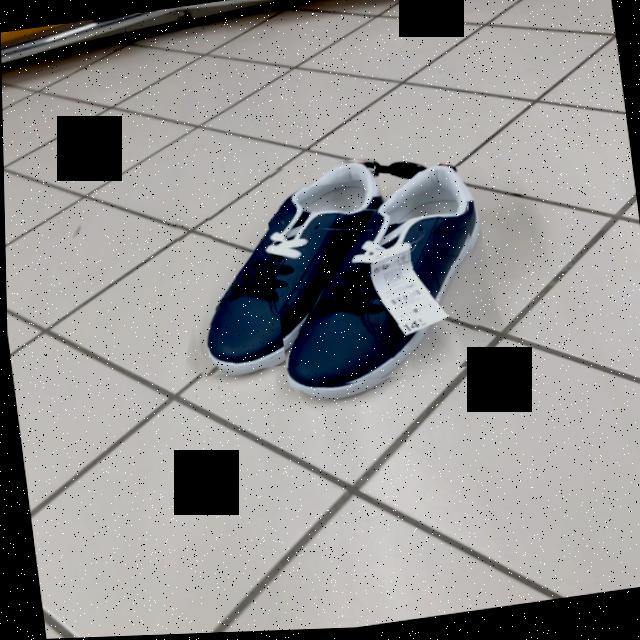shoe: (284, 172, 467, 391), (192, 162, 376, 375)
